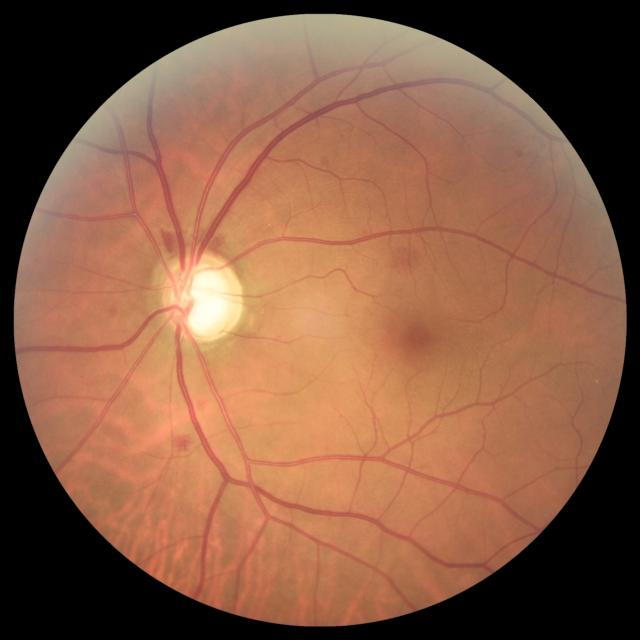OC: (167, 264, 233, 334)
OD: (160, 251, 242, 345)
